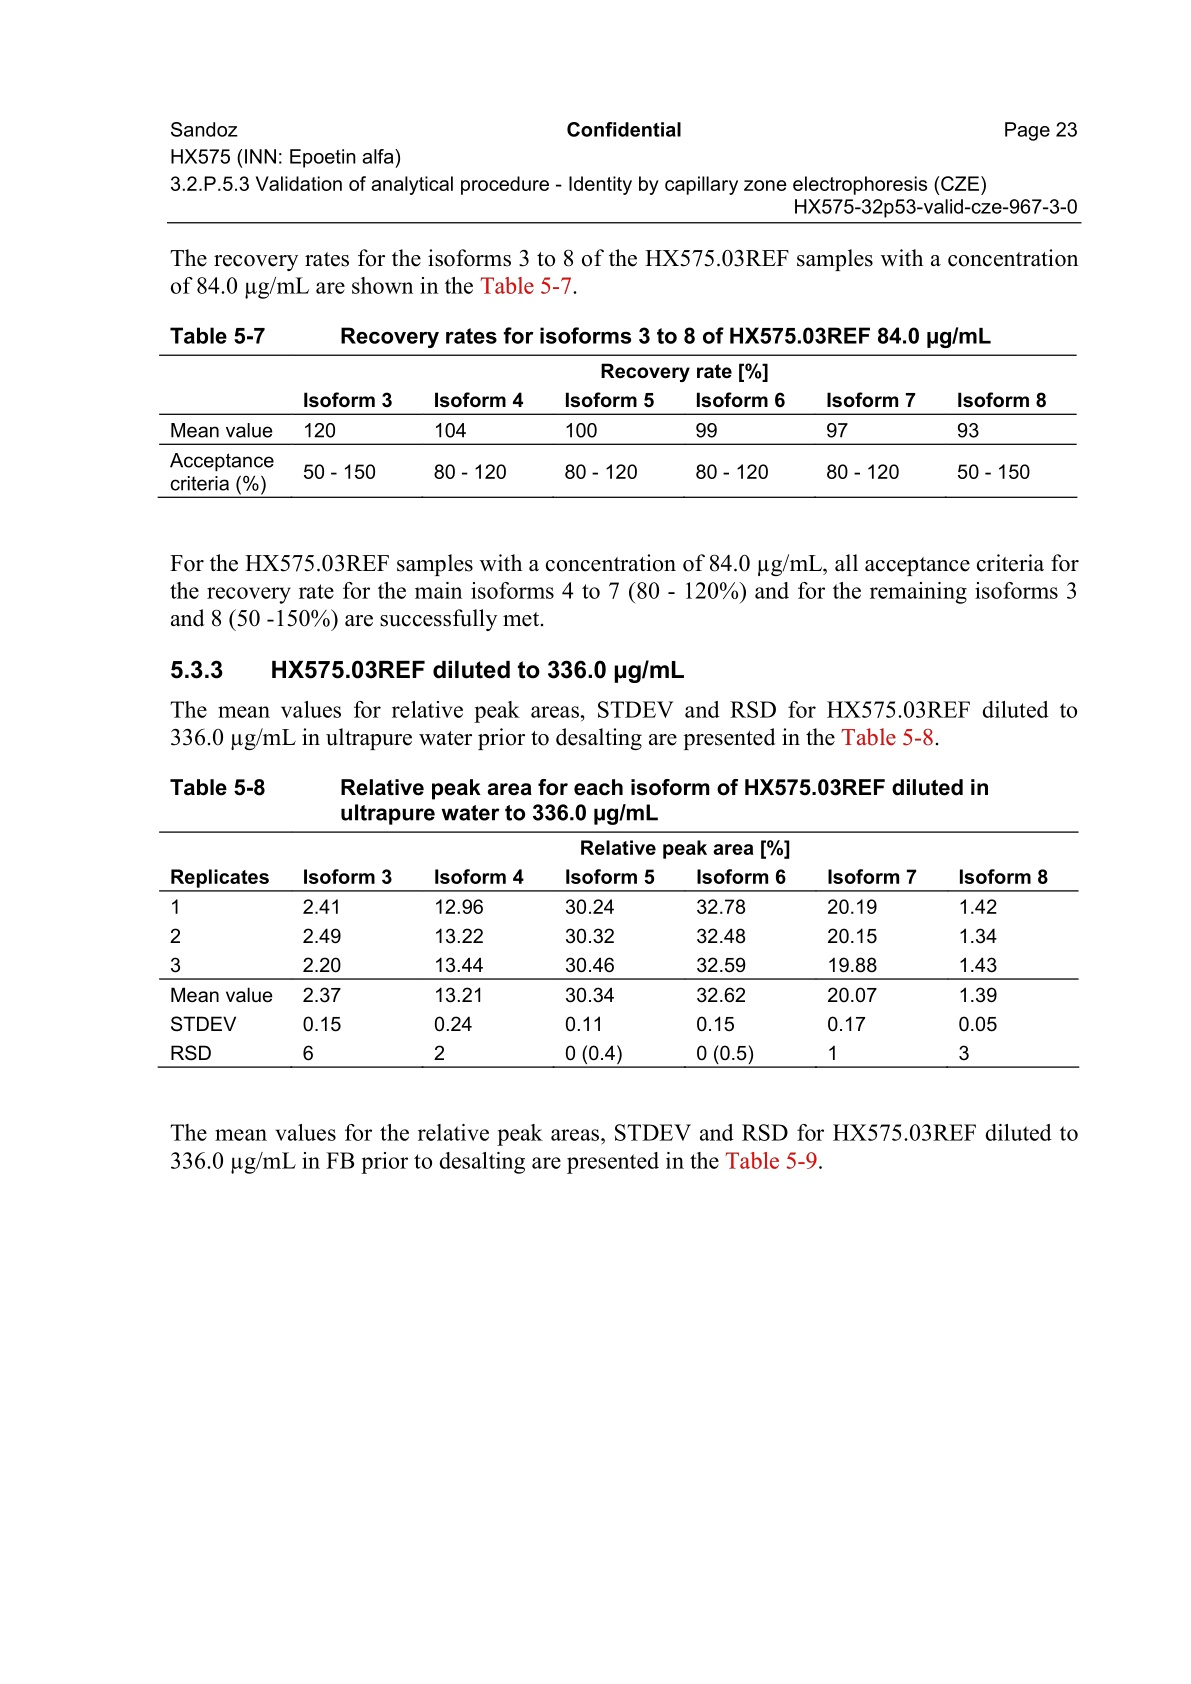partial_lined_merged_cells: (160, 828, 1078, 1069), (159, 353, 1080, 500)
